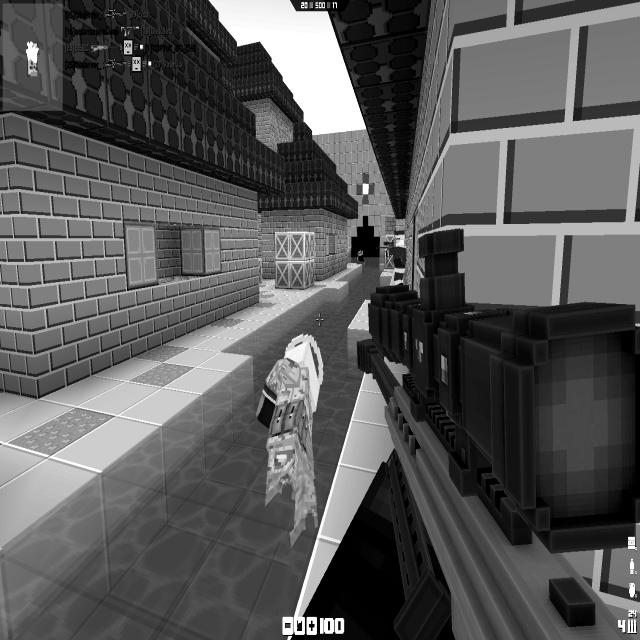Head: (284, 332, 324, 411), (394, 230, 405, 247), (357, 250, 363, 257)
Player: (256, 332, 324, 547), (375, 230, 407, 285), (357, 248, 365, 272)
